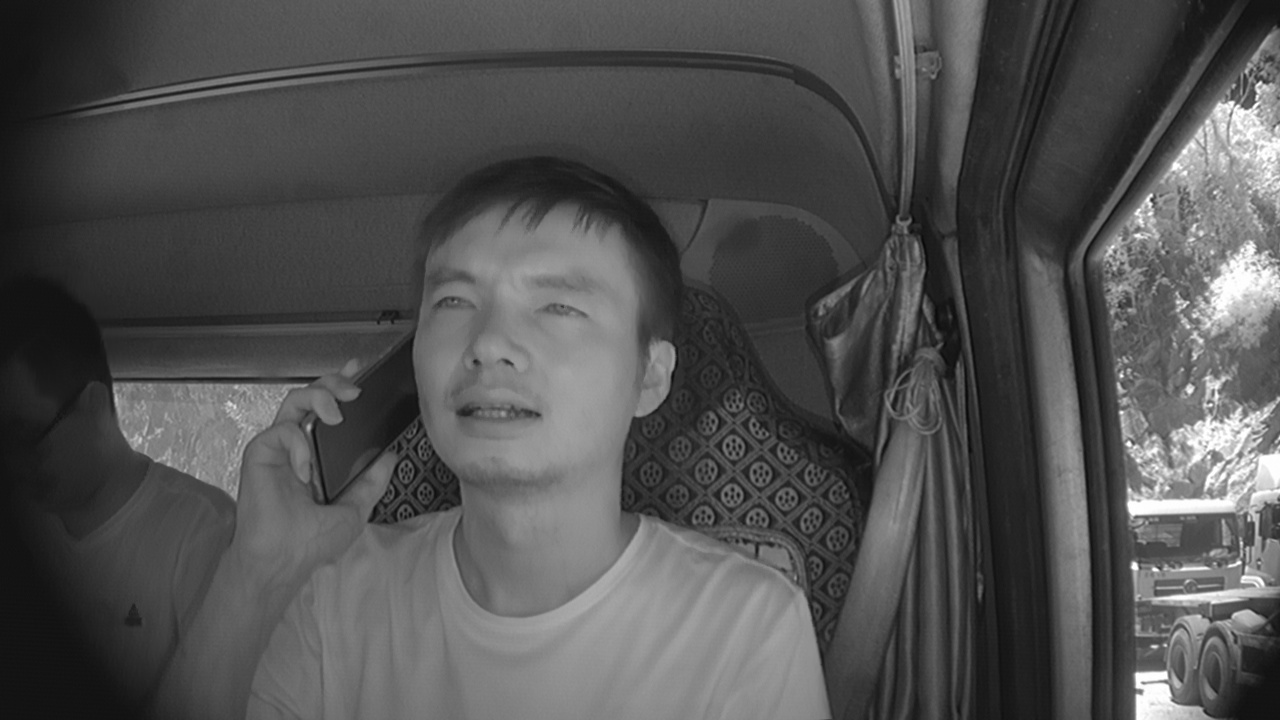hand: (232, 358, 398, 561)
